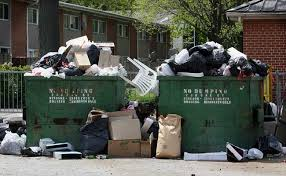Dumpster: (155, 73, 270, 159), (18, 69, 129, 147)
